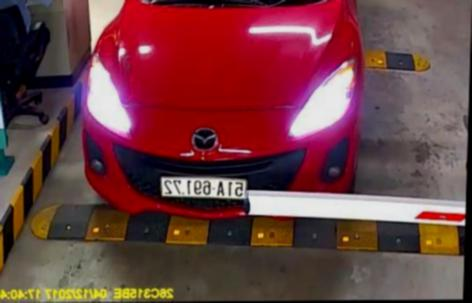License_Plate: (160, 174, 248, 200)
